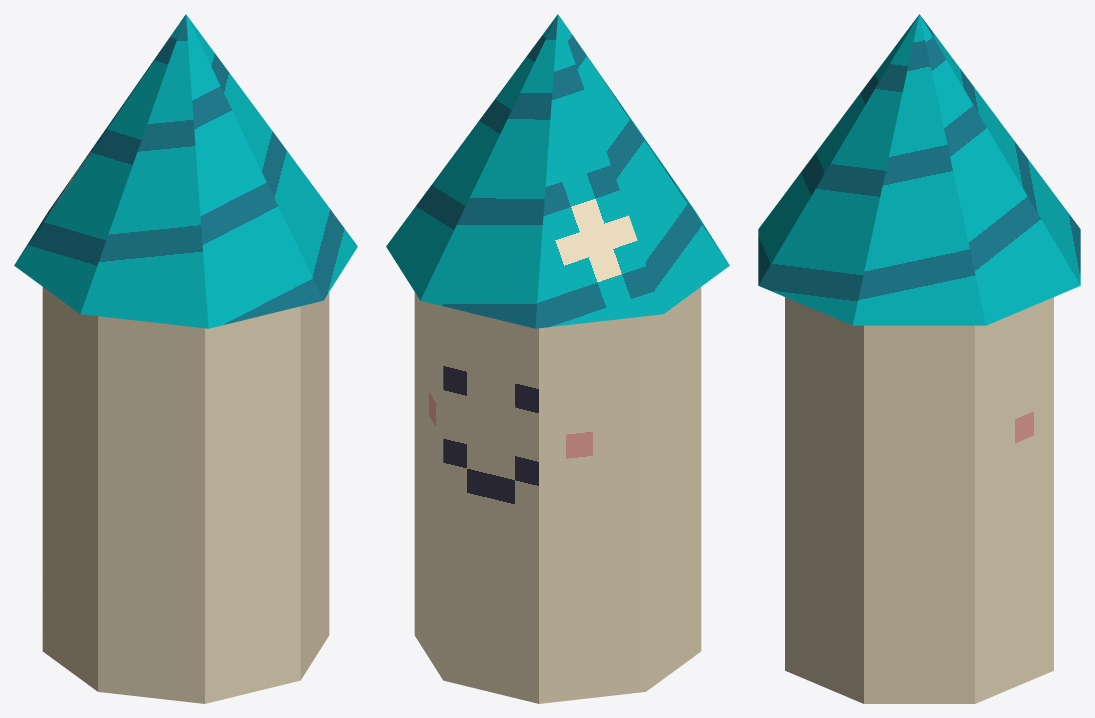
Rendered from PlayerCharacter.gltf.
The picture shows the model from 3 angles, left to right: view 1: azimuth 30°, elevation 25°; view 2: azimuth 150°, elevation 25°; view 3: azimuth 270°, elevation 25°; orthographic projection.
Visible parts, largest first — view 1: cylinder, cone; view 2: cylinder, cone; view 3: cylinder, cone.
Boxes of the visible parts, x1,y1,x2,y2 form: cylinder: (42,287,329,703); cone: (14,14,357,328); cylinder: (414,287,701,703); cone: (386,14,729,328); cylinder: (785,297,1053,703); cone: (758,14,1080,325).
Size of the model in its own units: 0.75 by 1.62 by 0.75.
1 material, 1 textured.
